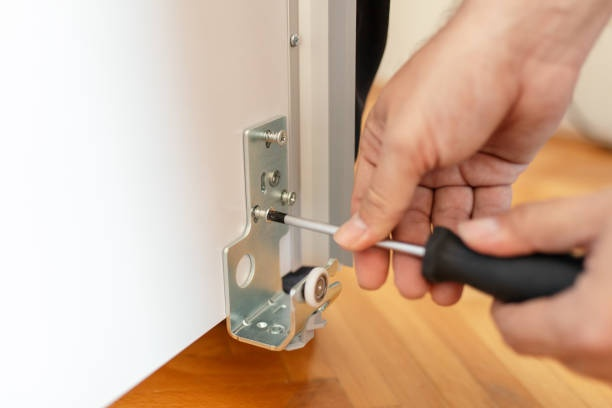screwdriver: (257, 205, 591, 304)
